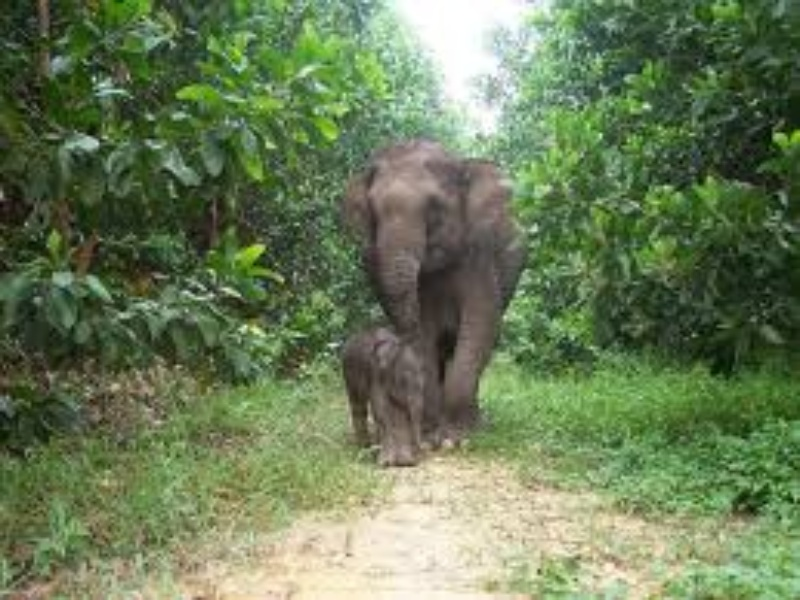elephant: (318, 112, 528, 466), (330, 327, 448, 480)
